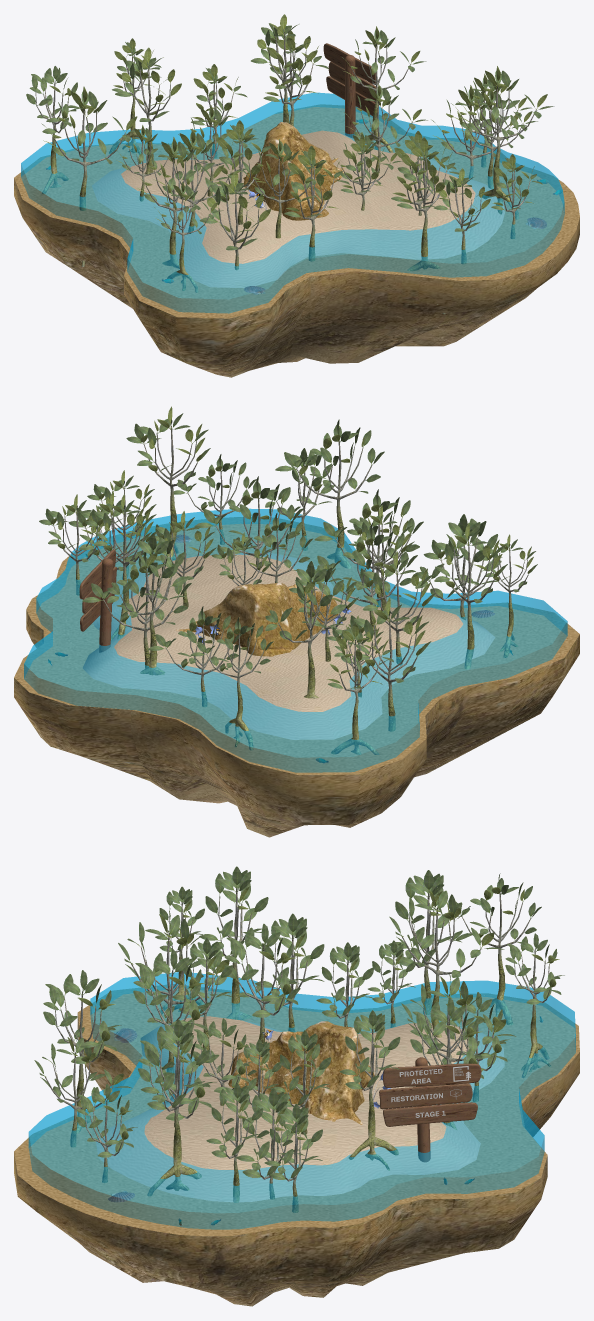
The model's file is ref-stg1.glb.
3 views of the same model, one above another, from view 1: azimuth 30°, elevation 25°; view 2: azimuth 150°, elevation 25°; view 3: azimuth 270°, elevation 25° (orthographic). The views are drawn at different scales.
Parts seen in each view (by area): view 1: ISOLOTTI_GRP_isola_03_acqua_geo_ISOLOTTI_003_GRP, ISOLOTTI_GRP_ISOLOTTI_003_GRP_isola_03_terra_geo, isola_01_terra_geo_ISOLOTTI_001_GRP_ISOLOTTI_GRP, Rock_Sandstone-Photoscan_D_spring-summer-autumn, PLANTS_GRP_PLANT_mangrovia_J_geo.023, PLANTS_GRP_PLANT_mangrovia_J_geo.004, PLANTS_GRP_PLANT_mangrovia_J_geo.020, PLANTS_GRP_PLANT_mangrovia_J_geo.015, PLANTS_GRP_PLANT_mangrovia_J_geo.013, PLANTS_GRP_PLANT_mangrovia_J_geo.017, PLANTS_GRP_PLANT_mangrovia_J_geo.031, PLANTS_GRP_PLANT_mangrovia_J_geo.030 (+24 smaller); view 2: ISOLOTTI_GRP_isola_03_acqua_geo_ISOLOTTI_003_GRP, ISOLOTTI_GRP_ISOLOTTI_003_GRP_isola_03_terra_geo, isola_01_terra_geo_ISOLOTTI_001_GRP_ISOLOTTI_GRP, Rock_Sandstone-Photoscan_D_spring-summer-autumn, PLANTS_GRP_PLANT_mangrovia_J_geo.020, PLANTS_GRP_PLANT_mangrovia_J_geo.017, PLANTS_GRP_PLANT_mangrovia_J_geo.011, PLANTS_GRP_PLANT_mangrovia_J_geo.015, PLANTS_GRP_PLANT_mangrovia_J_geo.023, PLANTS_GRP_PLANT_mangrovia_J_geo.004, PLANTS_GRP_PLANT_mangrovia_J_geo.010, PLANTS_GRP_PLANT_mangrovia_J_geo.031 (+21 smaller); view 3: ISOLOTTI_GRP_isola_03_acqua_geo_ISOLOTTI_003_GRP, ISOLOTTI_GRP_ISOLOTTI_003_GRP_isola_03_terra_geo, isola_01_terra_geo_ISOLOTTI_001_GRP_ISOLOTTI_GRP, Rock_Sandstone-Photoscan_D_spring-summer-autumn, PLANTS_GRP_PLANT_mangrovia_J_geo.023, PLANTS_GRP_PLANT_mangrovia_J_geo.020, PLANTS_GRP_PLANT_mangrovia_J_geo.005, PLANTS_GRP_PLANT_mangrovia_J_geo.016, PLANTS_GRP_PLANT_mangrovia_J_geo.015, PLANTS_GRP_PLANT_mangrovia_J_geo.017, PLANTS_GRP_PLANT_mangrovia_J_geo.004, PLANTS_GRP_PLANT_mangrovia_J_geo.030 (+24 smaller).
Boxes of the visible parts, bbox=[...] form: ISOLOTTI_GRP_isola_03_acqua_geo_ISOLOTTI_003_GRP: bbox=[14, 104, 579, 377]; ISOLOTTI_GRP_ISOLOTTI_003_GRP_isola_03_terra_geo: bbox=[21, 92, 564, 313]; isola_01_terra_geo_ISOLOTTI_001_GRP_ISOLOTTI_GRP: bbox=[92, 130, 504, 287]; Rock_Sandstone-Photoscan_D_spring-summer-autumn: bbox=[243, 122, 344, 220]; PLANTS_GRP_PLANT_mangrovia_J_geo.023: bbox=[458, 66, 554, 219]; PLANTS_GRP_PLANT_mangrovia_J_geo.004: bbox=[41, 86, 140, 266]; PLANTS_GRP_PLANT_mangrovia_J_geo.020: bbox=[397, 137, 458, 304]; PLANTS_GRP_PLANT_mangrovia_J_geo.015: bbox=[134, 137, 230, 268]; PLANTS_GRP_PLANT_mangrovia_J_geo.013: bbox=[26, 66, 78, 194]; PLANTS_GRP_PLANT_mangrovia_J_geo.017: bbox=[115, 47, 181, 174]; PLANTS_GRP_PLANT_mangrovia_J_geo.031: bbox=[199, 171, 270, 270]; PLANTS_GRP_PLANT_mangrovia_J_geo.030: bbox=[284, 146, 349, 261]; ISOLOTTI_GRP_isola_03_acqua_geo_ISOLOTTI_003_GRP: bbox=[14, 517, 579, 837]; ISOLOTTI_GRP_ISOLOTTI_003_GRP_isola_03_terra_geo: bbox=[24, 508, 567, 772]; isola_01_terra_geo_ISOLOTTI_001_GRP_ISOLOTTI_GRP: bbox=[83, 552, 495, 739]; Rock_Sandstone-Photoscan_D_spring-summer-autumn: bbox=[176, 583, 338, 656]; PLANTS_GRP_PLANT_mangrovia_J_geo.020: bbox=[275, 419, 384, 568]; PLANTS_GRP_PLANT_mangrovia_J_geo.017: bbox=[265, 561, 346, 698]; PLANTS_GRP_PLANT_mangrovia_J_geo.011: bbox=[107, 533, 188, 675]; PLANTS_GRP_PLANT_mangrovia_J_geo.015: bbox=[423, 523, 507, 669]; PLANTS_GRP_PLANT_mangrovia_J_geo.023: bbox=[126, 406, 210, 560]; PLANTS_GRP_PLANT_mangrovia_J_geo.004: bbox=[342, 597, 431, 731]; PLANTS_GRP_PLANT_mangrovia_J_geo.010: bbox=[82, 552, 191, 668]; PLANTS_GRP_PLANT_mangrovia_J_geo.031: bbox=[415, 514, 501, 619]; ISOLOTTI_GRP_isola_03_acqua_geo_ISOLOTTI_003_GRP: bbox=[14, 984, 579, 1306]; ISOLOTTI_GRP_ISOLOTTI_003_GRP_isola_03_terra_geo: bbox=[28, 972, 575, 1229]; isola_01_terra_geo_ISOLOTTI_001_GRP_ISOLOTTI_GRP: bbox=[96, 1016, 504, 1202]; Rock_Sandstone-Photoscan_D_spring-summer-autumn: bbox=[228, 1021, 374, 1124]; PLANTS_GRP_PLANT_mangrovia_J_geo.023: bbox=[140, 1019, 210, 1196]; PLANTS_GRP_PLANT_mangrovia_J_geo.020: bbox=[43, 970, 121, 1133]; PLANTS_GRP_PLANT_mangrovia_J_geo.005: bbox=[339, 1010, 400, 1170]; PLANTS_GRP_PLANT_mangrovia_J_geo.016: bbox=[224, 923, 303, 1043]; PLANTS_GRP_PLANT_mangrovia_J_geo.015: bbox=[199, 866, 268, 1020]; PLANTS_GRP_PLANT_mangrovia_J_geo.017: bbox=[389, 886, 504, 1037]; PLANTS_GRP_PLANT_mangrovia_J_geo.004: bbox=[388, 870, 462, 1014]; PLANTS_GRP_PLANT_mangrovia_J_geo.030: bbox=[133, 949, 212, 1082].
Bounding box in the file's own units: 0.4686 × 0.2879 × 0.4438.
14 materials, 12 textured.
